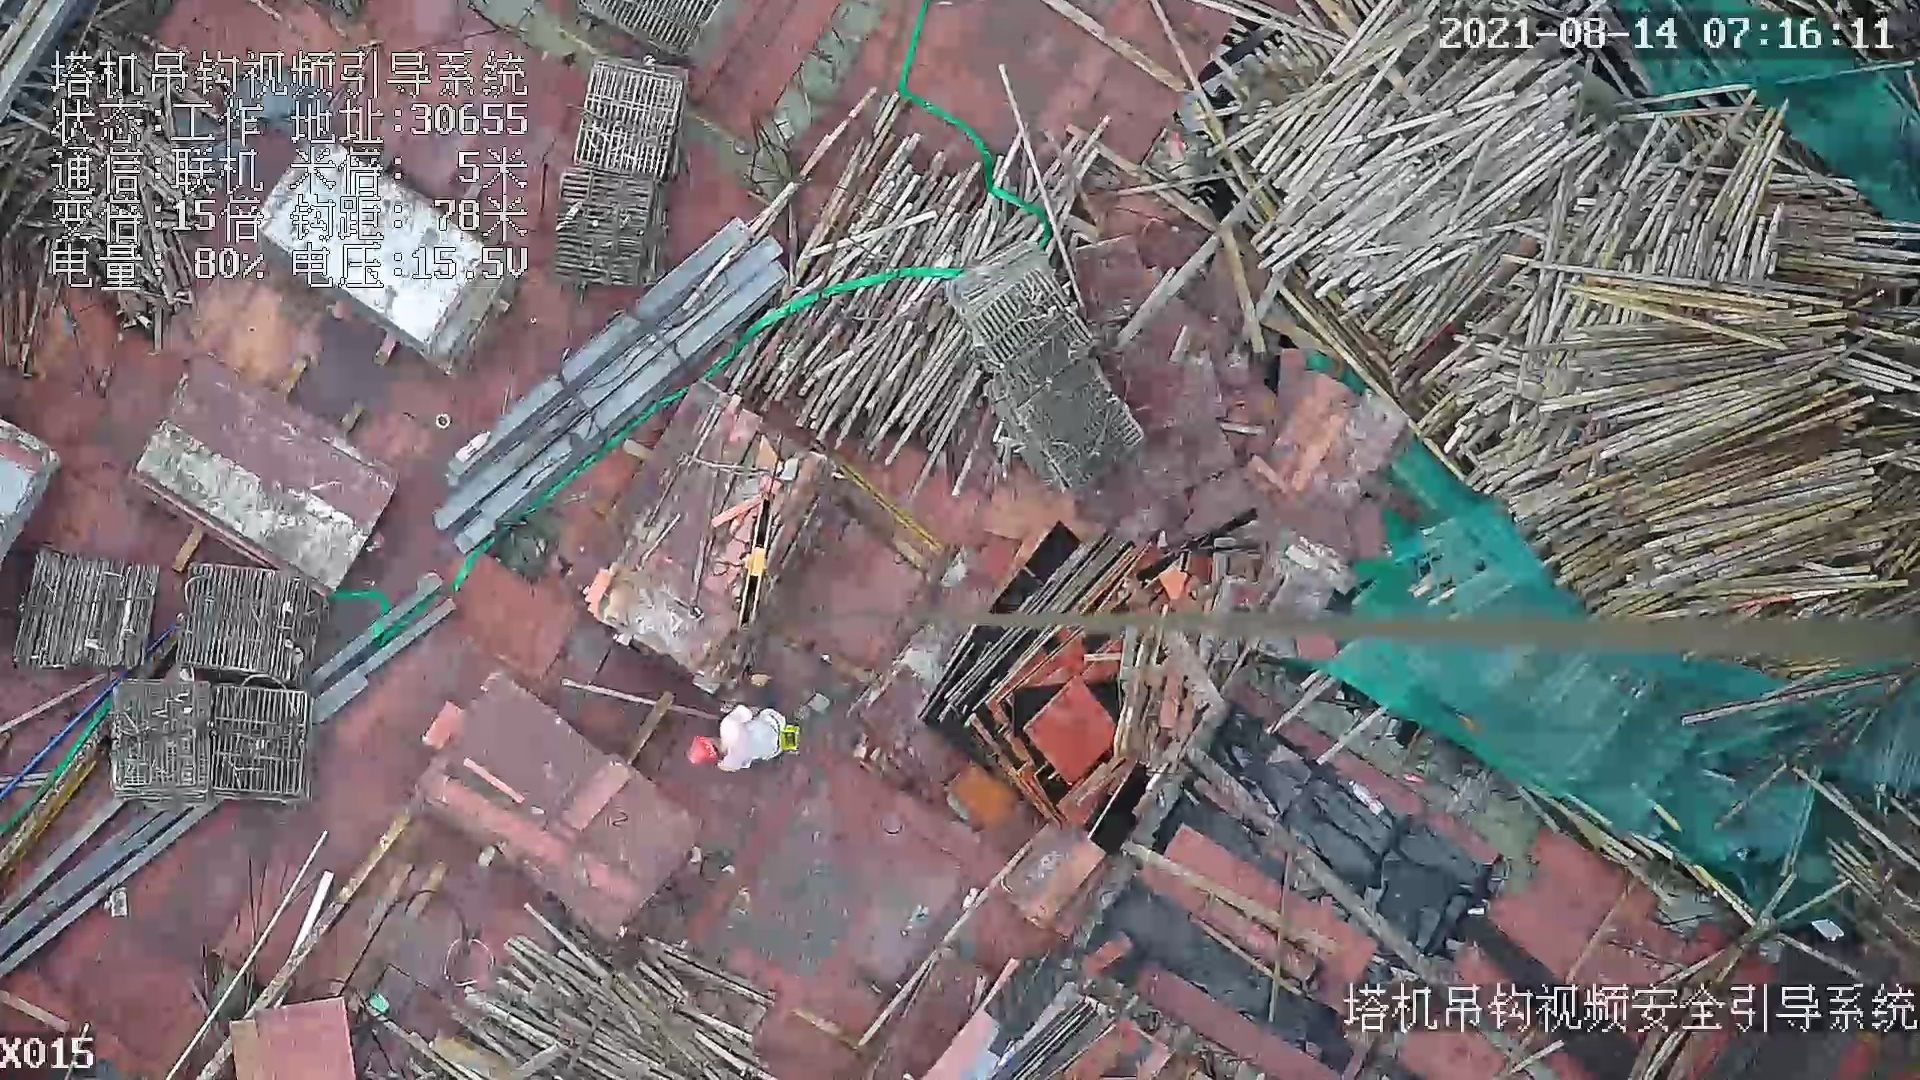helmet: (685, 726, 717, 767)
hook: (731, 499, 779, 630)
person: (682, 705, 809, 773)
